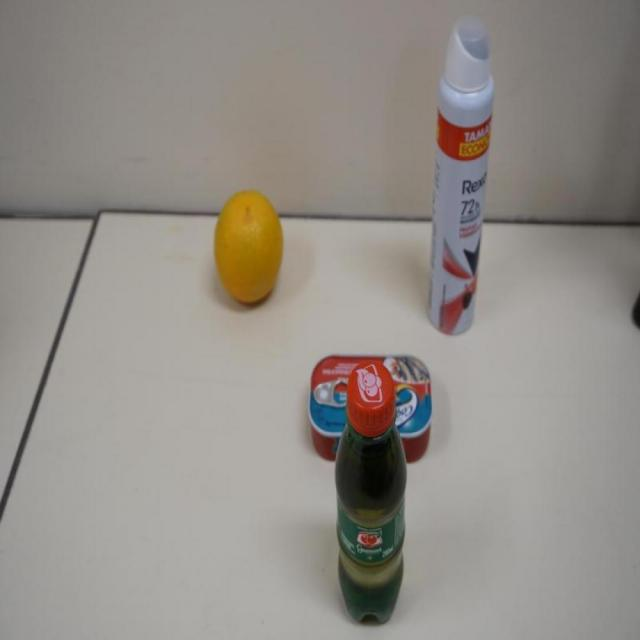Guarana: (335, 360, 408, 628)
Orange: (213, 191, 284, 310)
TunaCan: (308, 355, 432, 464)
